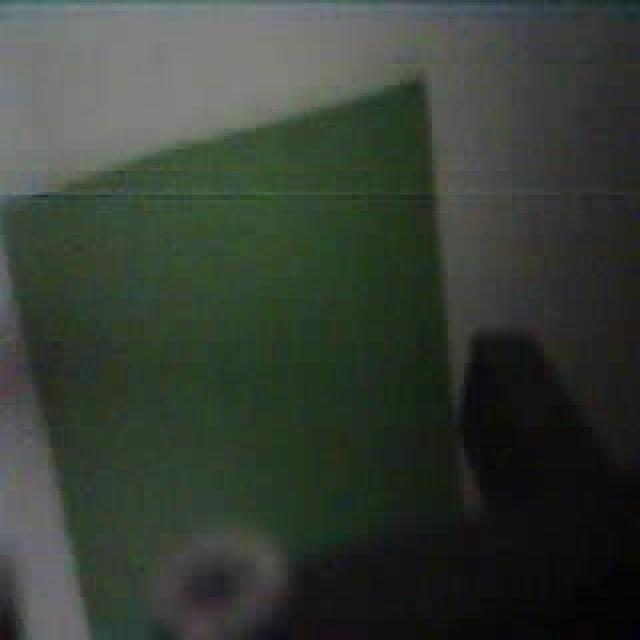green_box: (0, 72, 462, 637)
